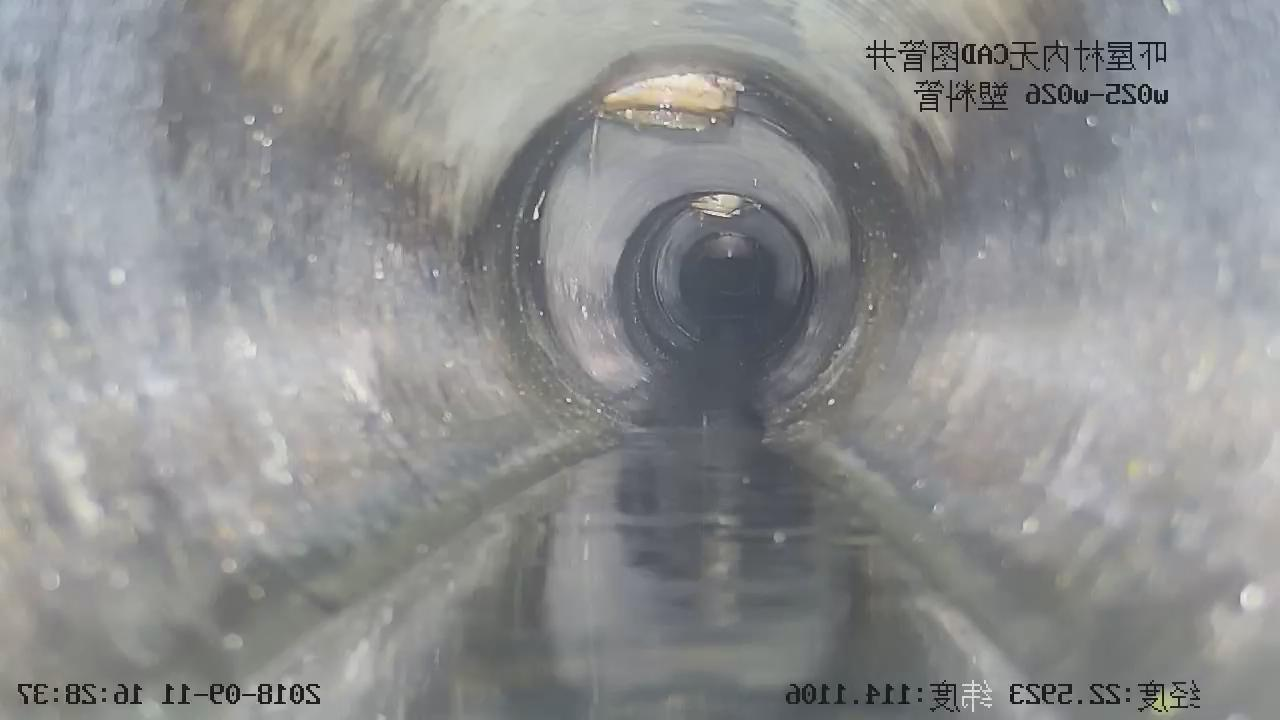ZGAJ: (598, 73, 743, 131), (692, 193, 754, 217)
